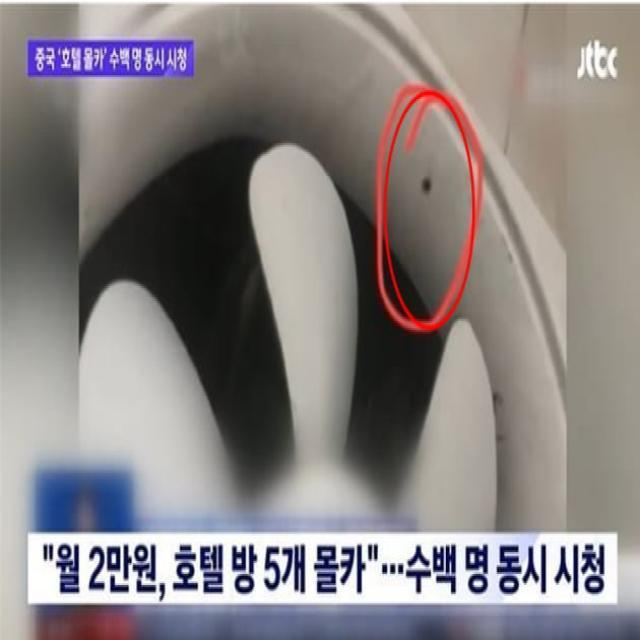hidden camera: (419, 174, 434, 196)
